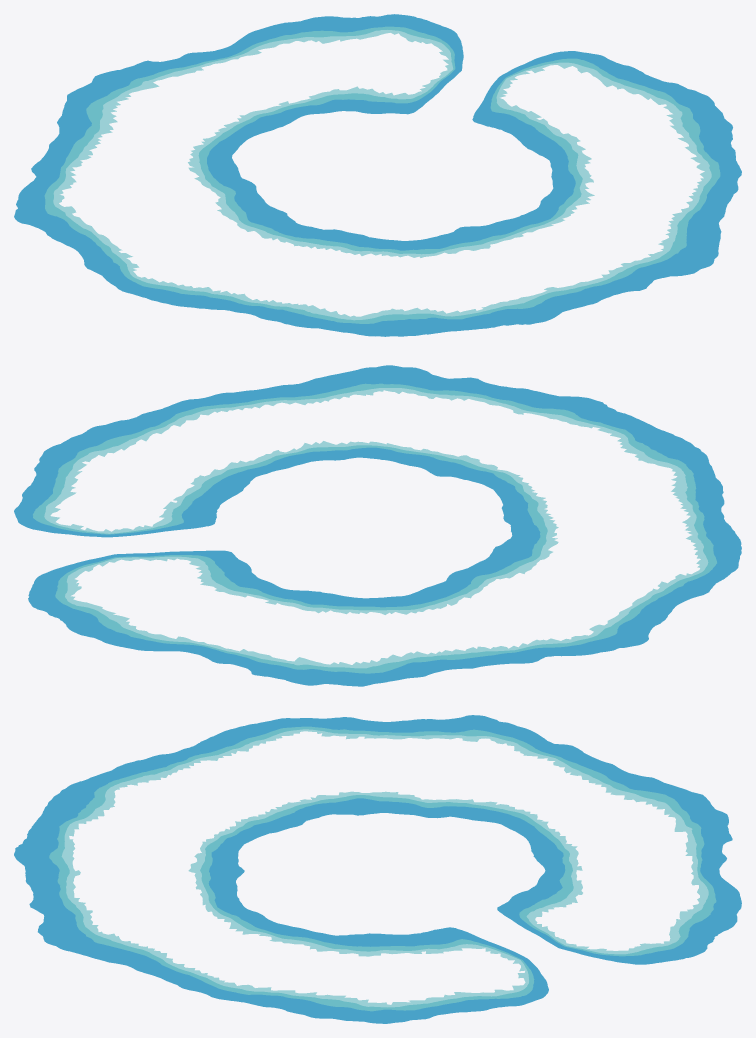
File: Isl-atoll2-Water.fbx
3 renders of one model, top to bottom at view 1: azimuth 30°, elevation 25°; view 2: azimuth 150°, elevation 25°; view 3: azimuth 270°, elevation 25°, orthographic. The views are drawn at different scales.
Parts seen in each view (by area): view 1: Isl-atoll2-Water; view 2: Isl-atoll2-Water; view 3: Isl-atoll2-Water.
Part boxes in pixels (x1,y1,x2,y2): Isl-atoll2-Water: (14,14,741,336); Isl-atoll2-Water: (14,365,741,686); Isl-atoll2-Water: (14,715,741,1023).
Size of the model in its own units: 126 by 0 by 126.
